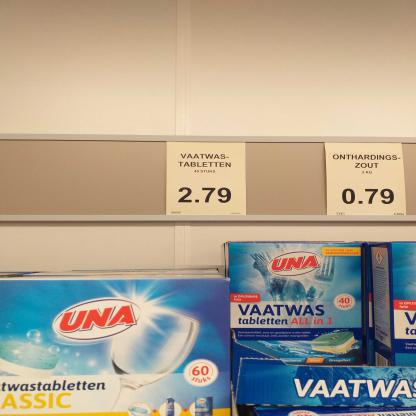prtg: (325, 143, 407, 217), (168, 142, 247, 216)
